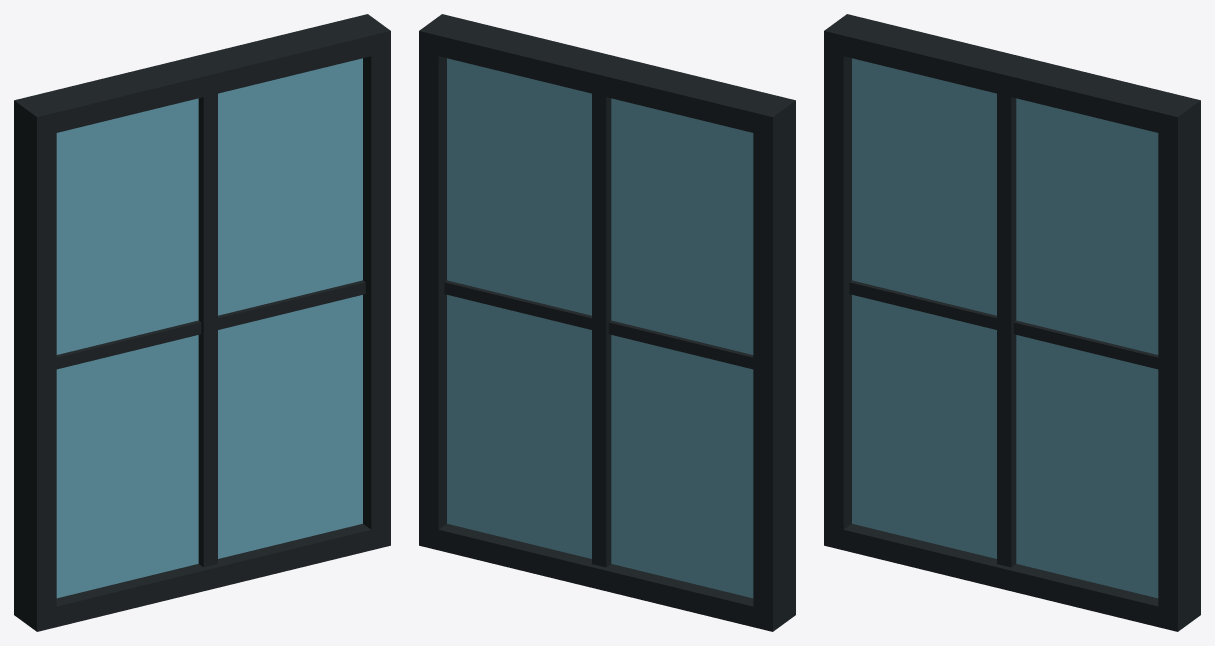
The model's file is Window_02.fbx.
The picture shows the model from 3 angles, left to right: view 1: azimuth 30°, elevation 25°; view 2: azimuth 150°, elevation 25°; view 3: azimuth 330°, elevation 25°; orthographic projection.
Visible parts, largest first — view 1: Window_02; view 2: Window_02; view 3: Window_02.
Boxes of the visible parts, bbox=[...] form: Window_02: bbox=[14, 14, 390, 631]; Window_02: bbox=[419, 14, 795, 631]; Window_02: bbox=[824, 14, 1200, 631].
Size of the model in its own units: 79.21 by 110 by 8.94.
